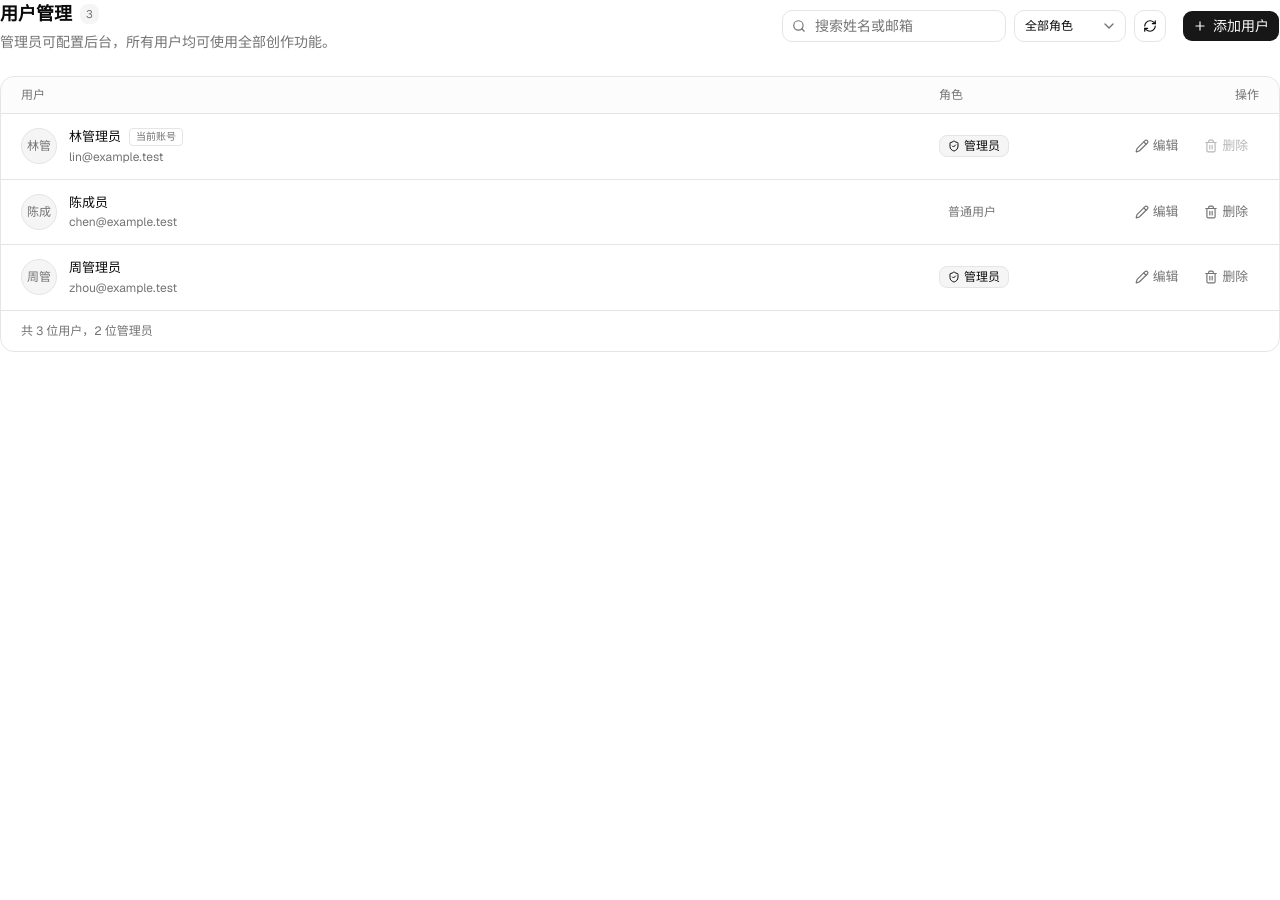
Test case: keeps the account and confirmation after a rejected deletion and allows retry
Click the button with aria-label "删除 陈成员" at (1226, 212), box [1193,198,1259,226]
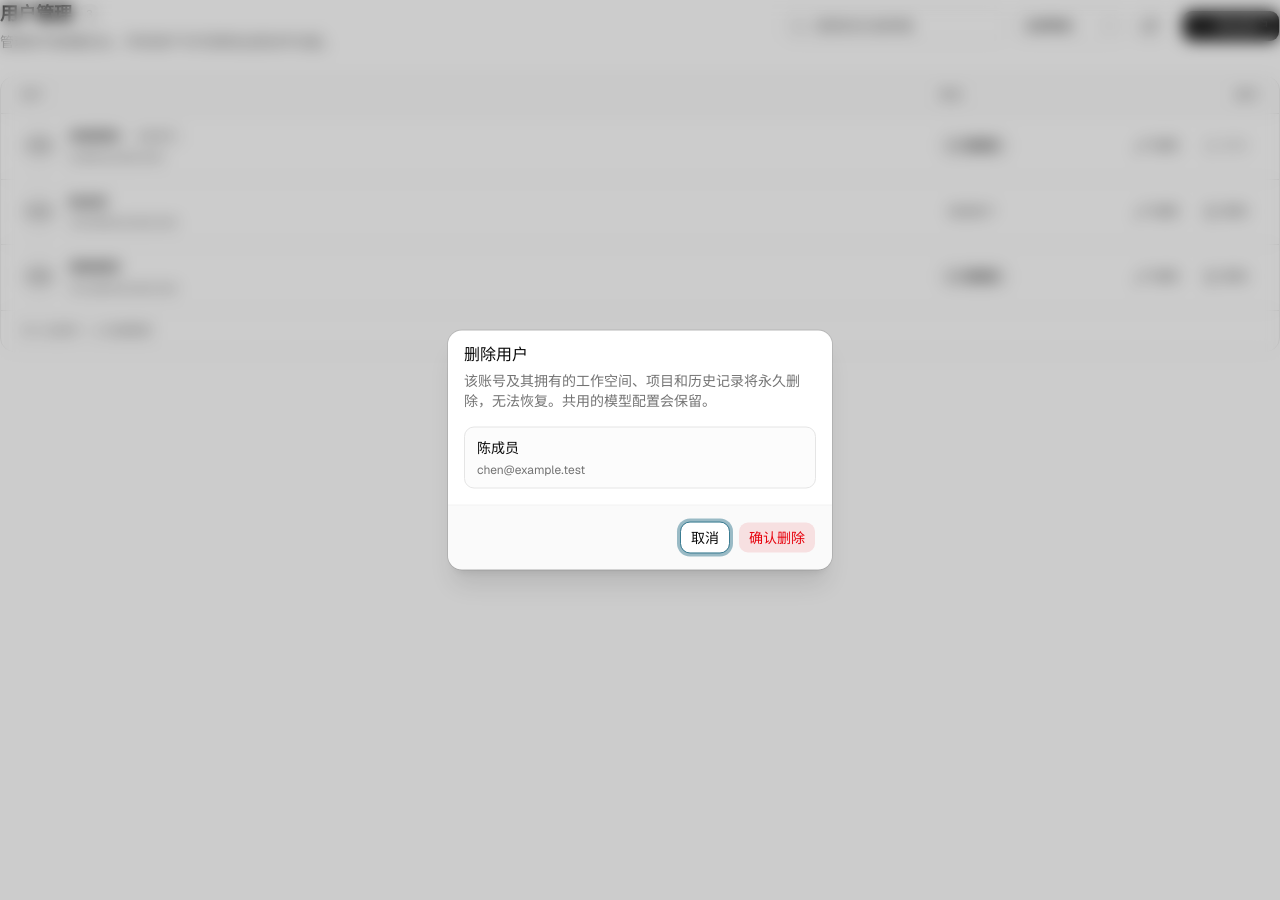
Click the button "确认删除" at (777, 538), box [738,522,816,554]
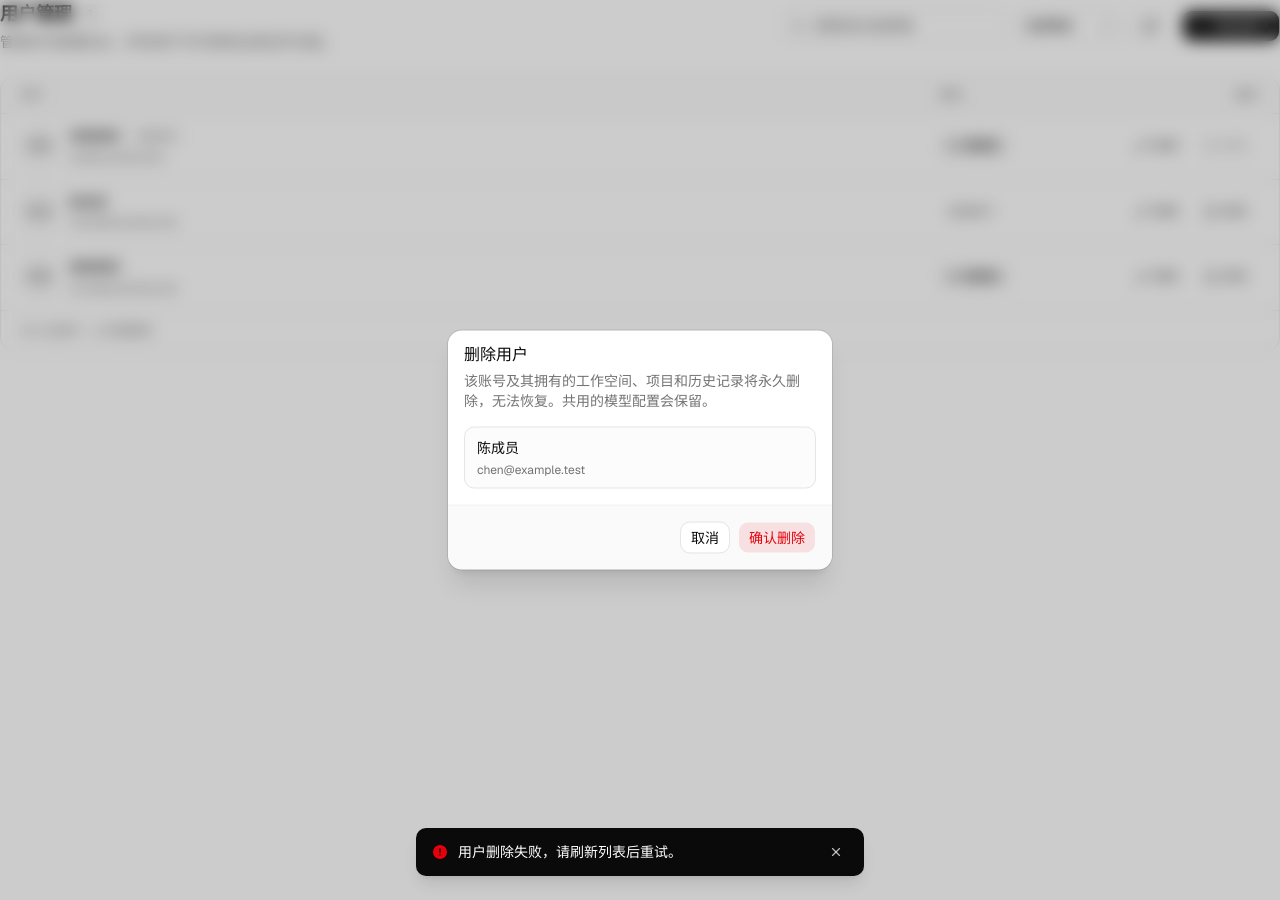
Result: the dialog "删除用户" is shown at [448,330,832,570]
Result: the message shows "用户删除失败" at [458,843,682,861]
Click the button "确认删除" at (777, 538), box [738,522,816,554]
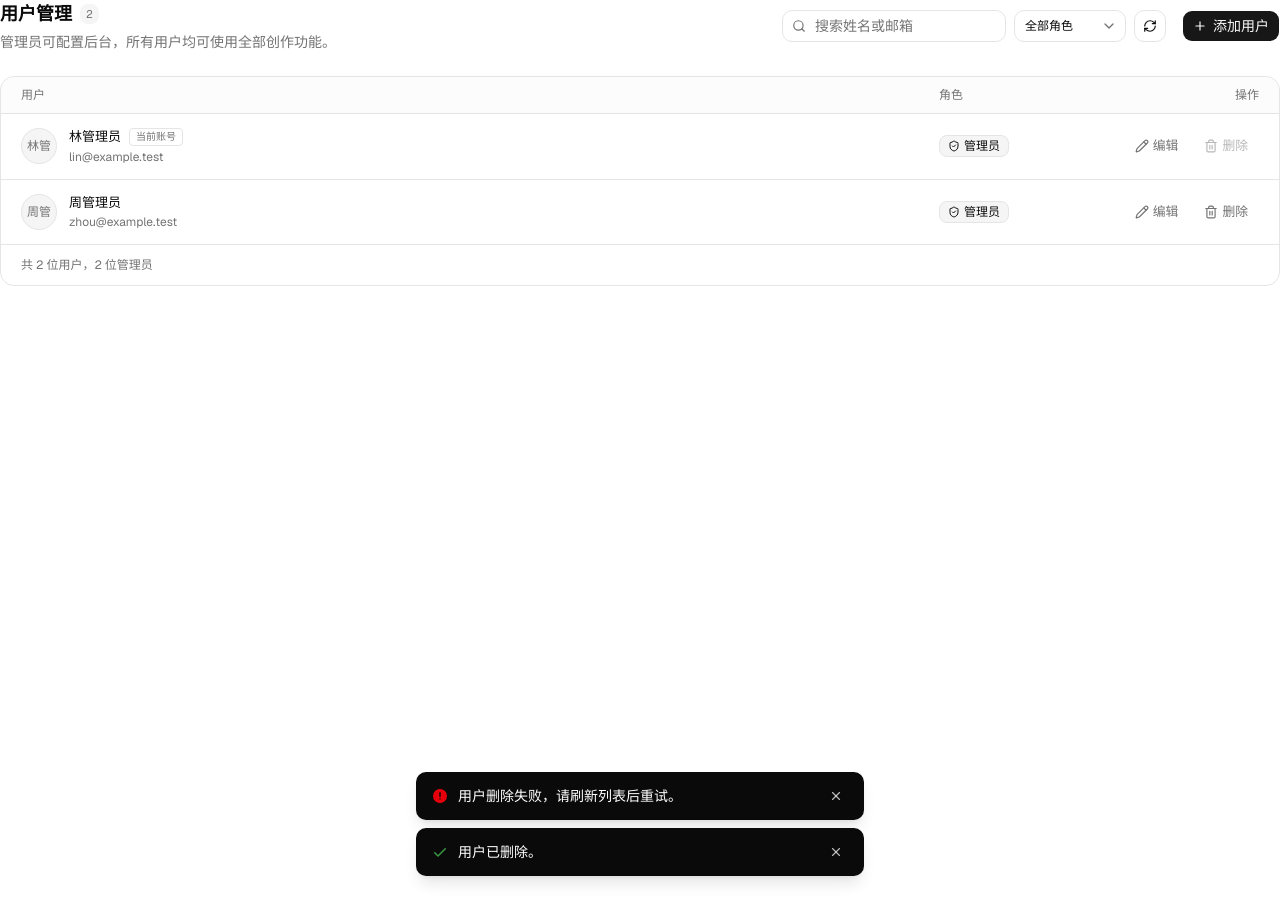
Result: the message "用户已删除。" is shown at [416,828,864,876]
